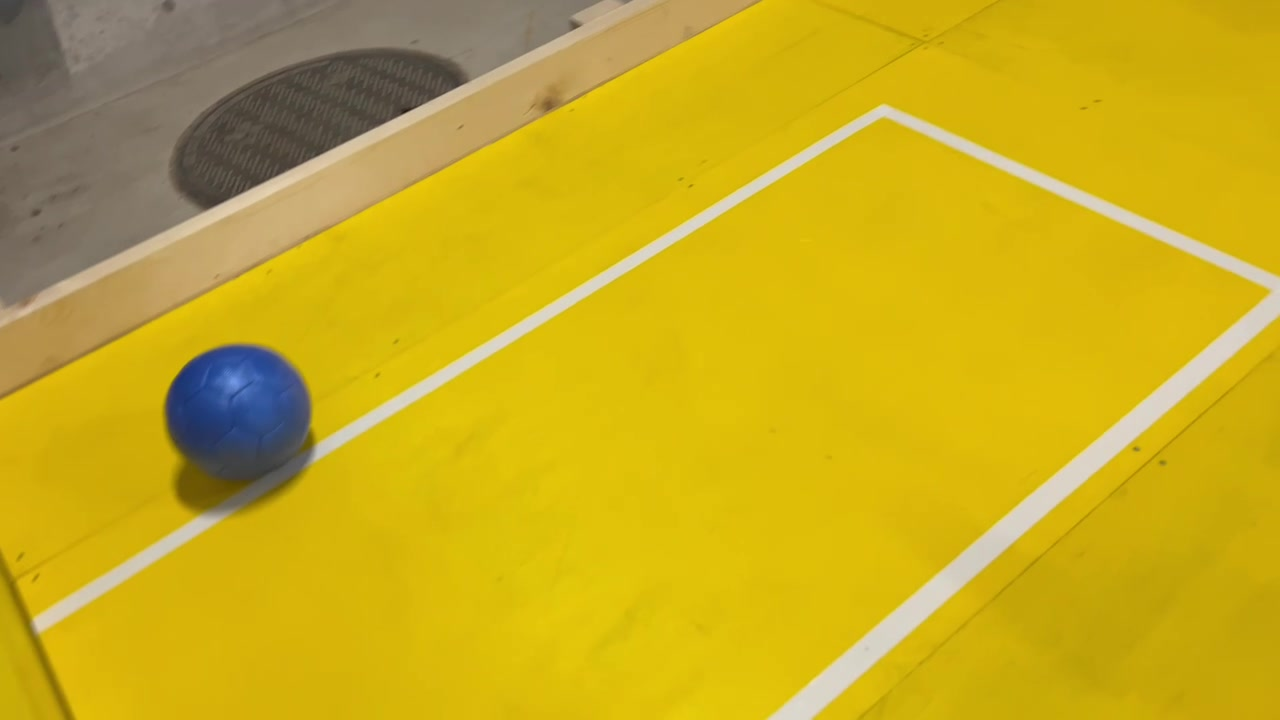blue: (162, 341, 315, 488)
